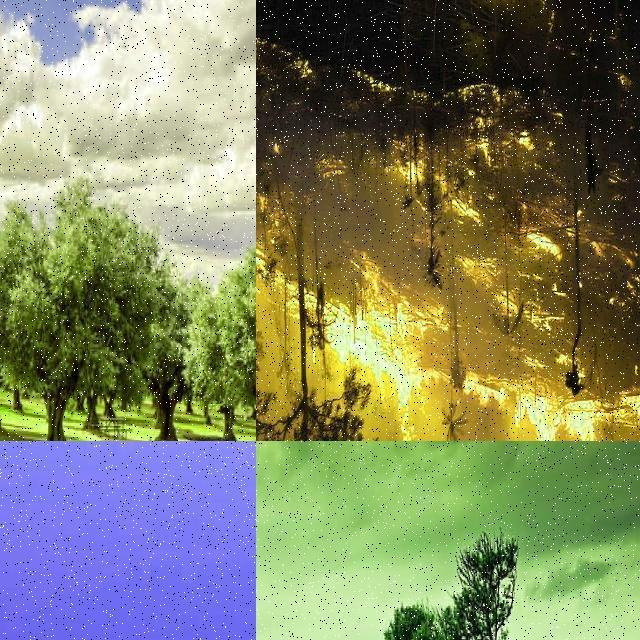tree: (0, 169, 164, 441), (0, 127, 112, 441), (256, 214, 384, 442), (370, 532, 574, 640), (200, 234, 256, 442), (0, 228, 46, 410), (1, 207, 36, 438), (256, 230, 282, 442), (0, 209, 28, 393), (421, 144, 447, 296), (440, 299, 464, 441), (256, 132, 274, 255), (256, 105, 278, 177), (256, 254, 270, 366), (256, 262, 270, 334), (256, 238, 264, 329)
